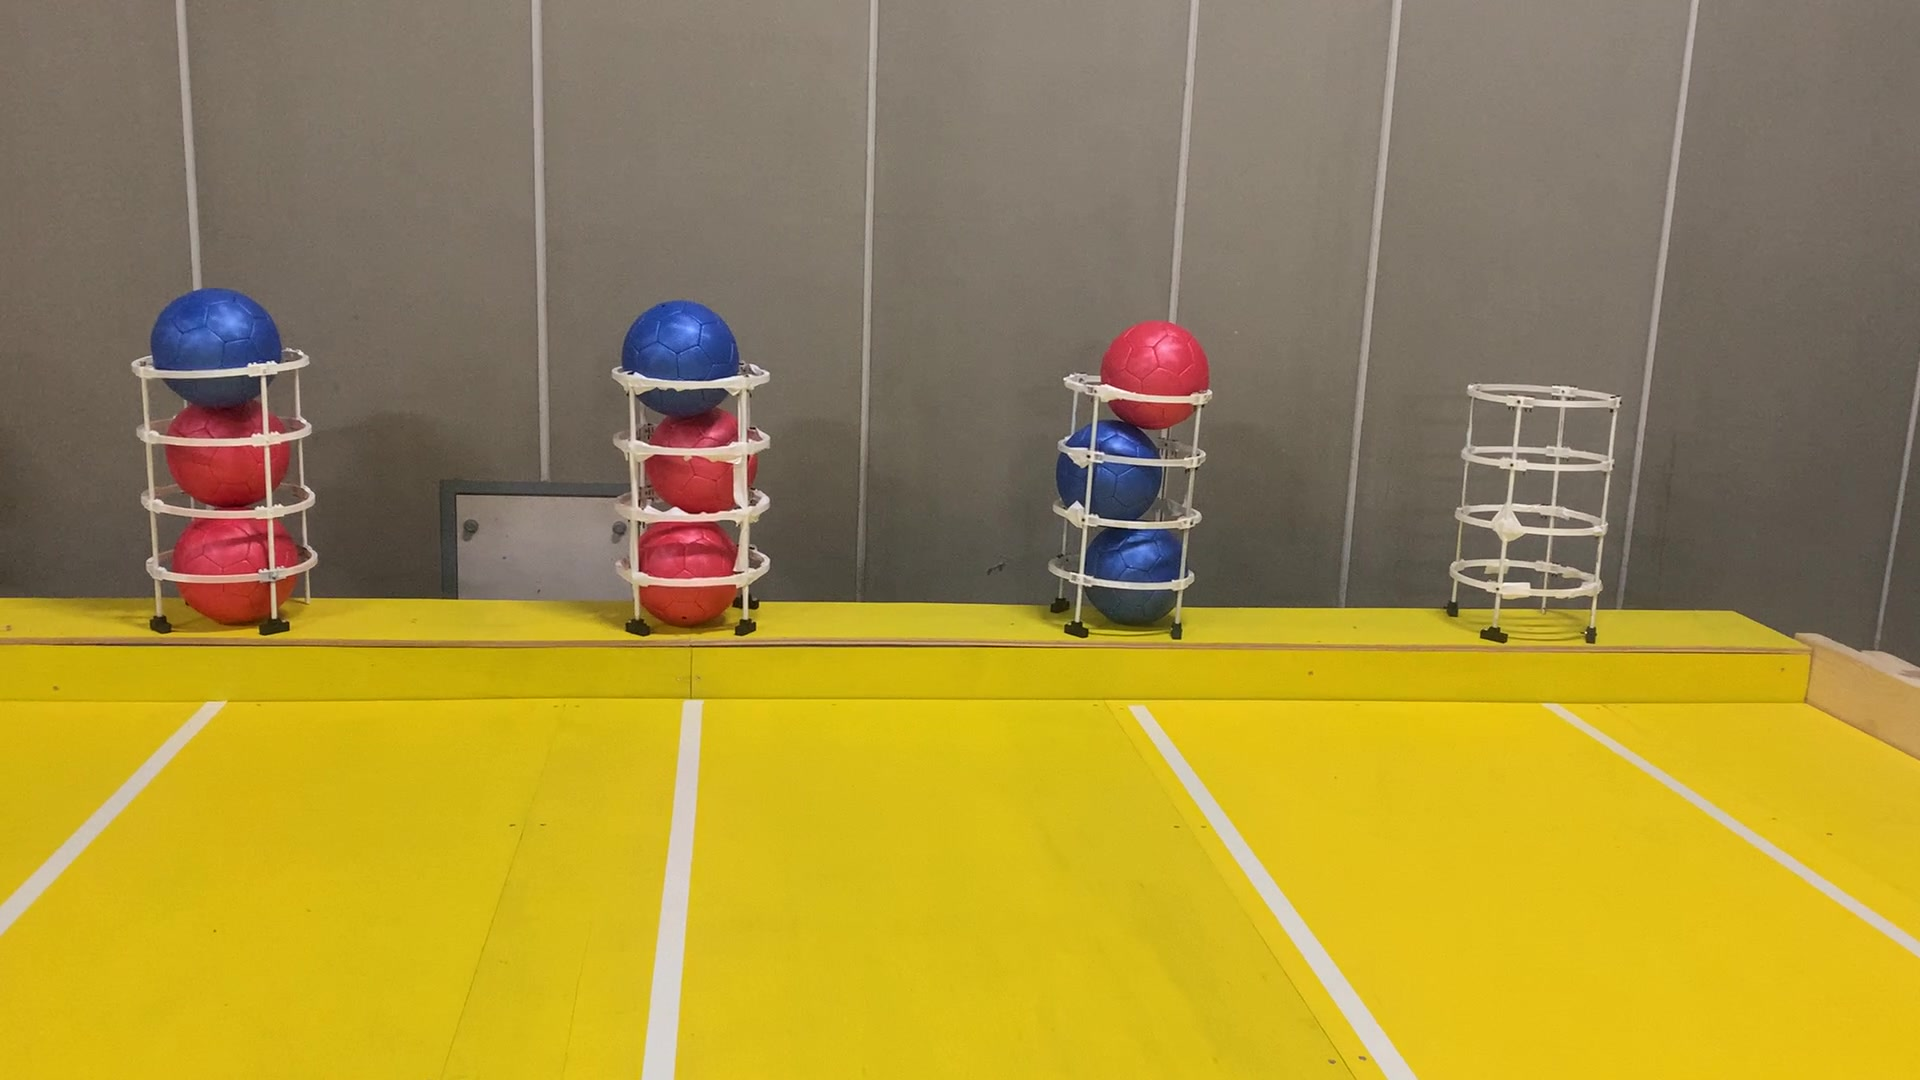blue: (145, 282, 295, 402), (617, 286, 750, 417), (1044, 411, 1163, 518), (1085, 508, 1192, 621)
red: (170, 502, 307, 625), (625, 508, 750, 634), (634, 398, 762, 517), (160, 389, 289, 502), (1097, 307, 1212, 427)
